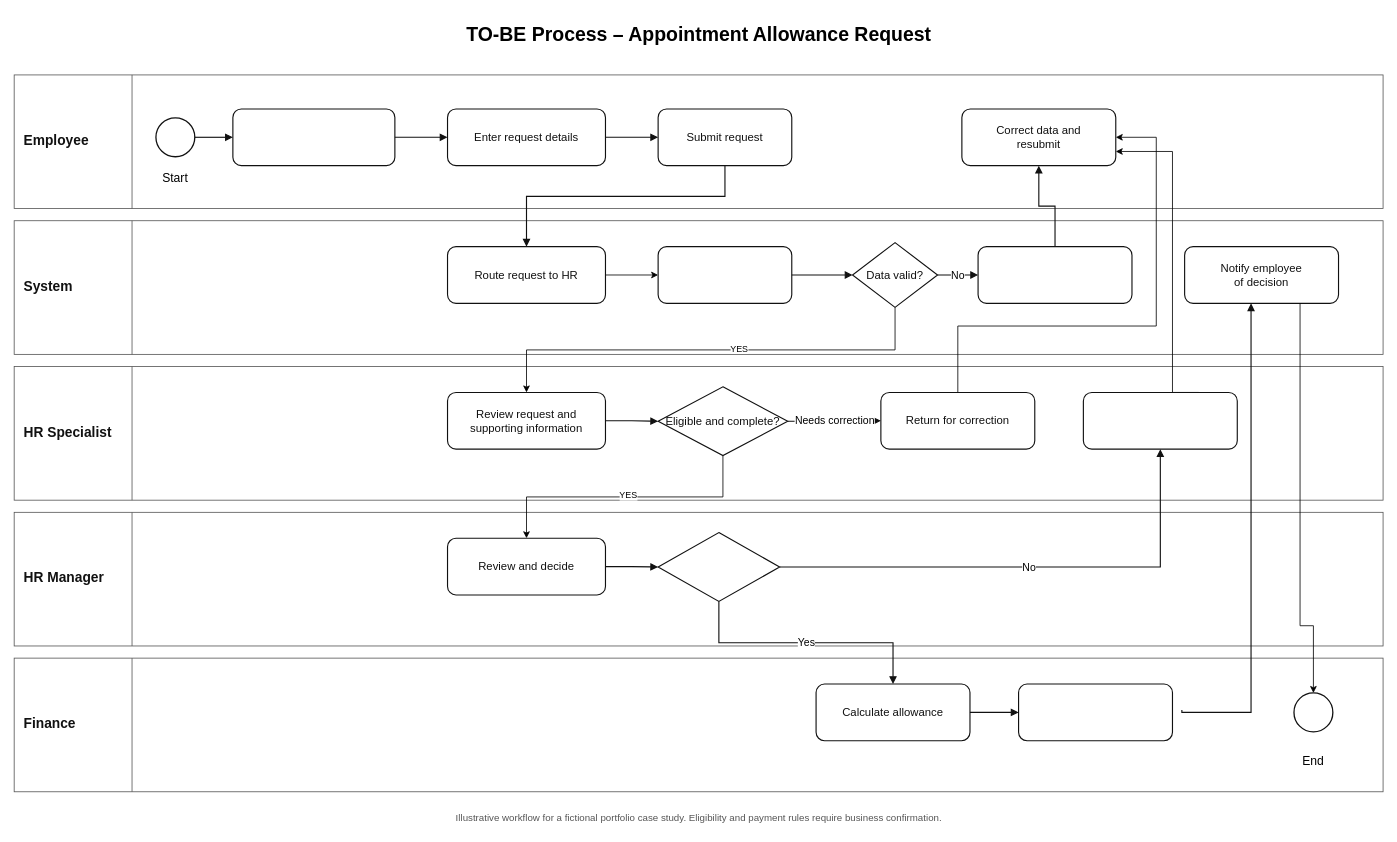
Image size: 1397x842. Some labels were removed from this diagram. Here are the shapes that lost their labels. From the top down, the centre of each, then its label:
At point (313, 137): "Select appointment allowance service".
At point (724, 275): "Validate required fields and request data".
At point (1054, 275): "Show validation errors".
At point (1159, 420): "Reject with reason".
At point (718, 567): "Approved?".
At point (1095, 712): "Process payment".
